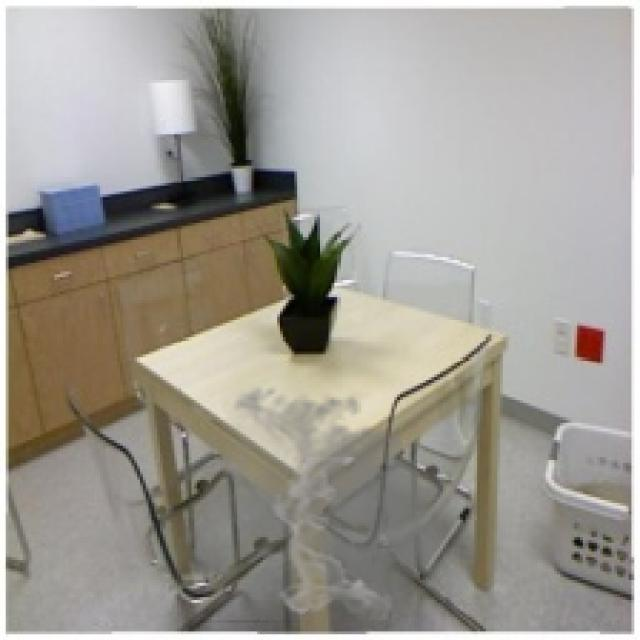smoke: (203, 380, 460, 623)
